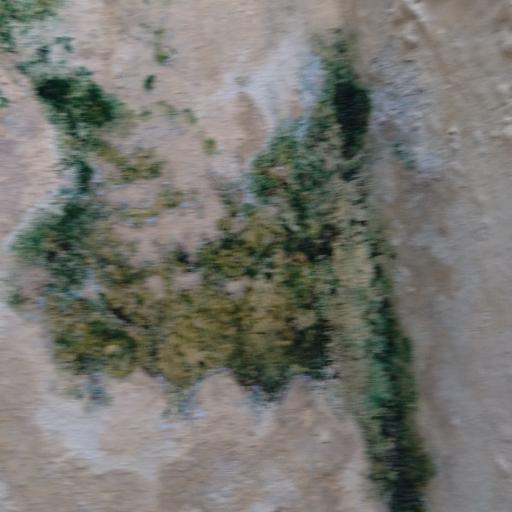algae: (51, 29, 487, 502)
